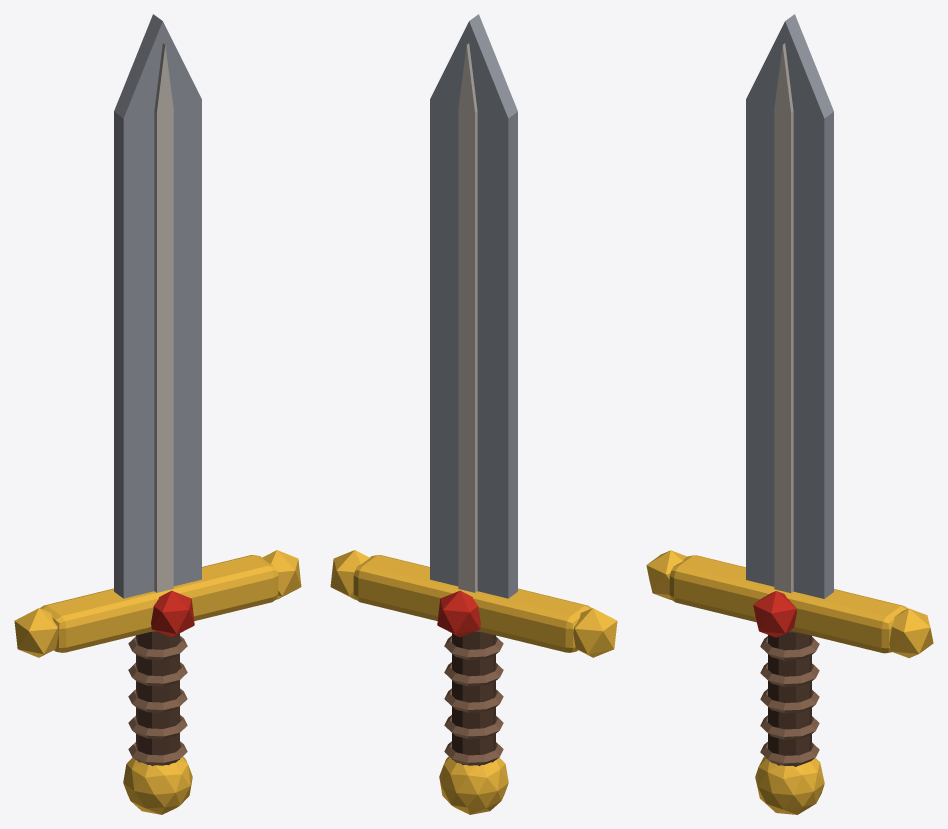
File: sword.glb
3 renders of one model, left to right at view 1: azimuth 30°, elevation 25°; view 2: azimuth 150°, elevation 25°; view 3: azimuth 330°, elevation 25°, orthographic.
Visible parts, largest first — view 1: sword; view 2: sword; view 3: sword.
Boxes of the visible parts, left/top/right/bottom form: sword: left=14, top=14, right=301, bottom=814; sword: left=330, top=14, right=617, bottom=814; sword: left=646, top=14, right=933, bottom=814.
Size of the model in its own units: 2 by 5.42 by 0.6122.
1 material, 1 textured.
